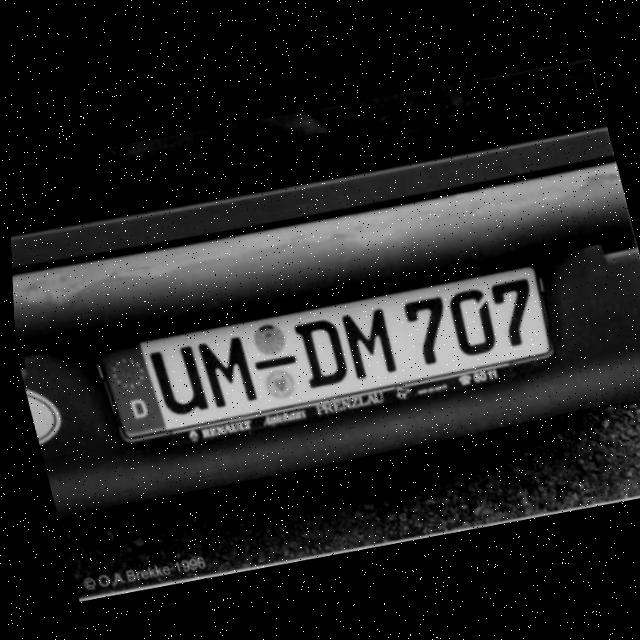license-plates: (97, 265, 555, 445)
